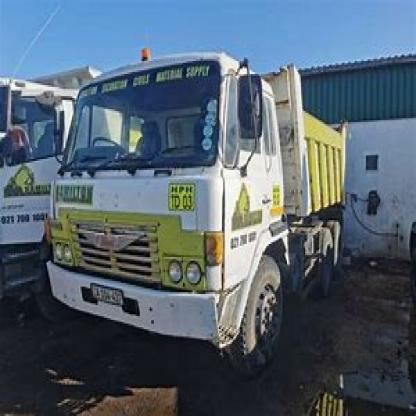dump_truck: (35, 44, 359, 370)
